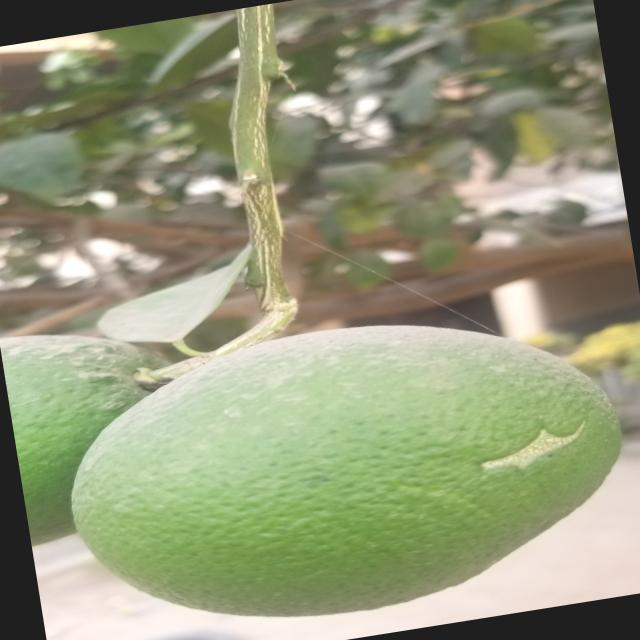Unripe: (32, 291, 639, 640), (0, 309, 194, 551)
